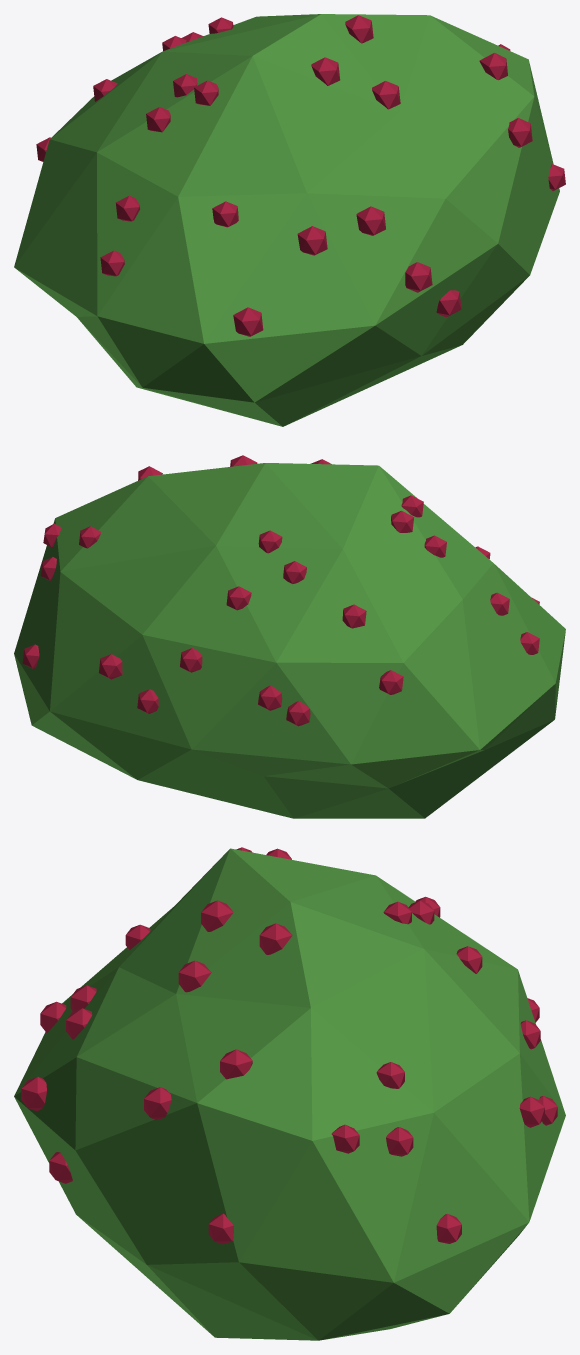
Rendered from bush_berries_red.fbx.
The picture shows the model from 3 angles, top to bottom: view 1: azimuth 30°, elevation 25°; view 2: azimuth 150°, elevation 25°; view 3: azimuth 270°, elevation 25°; orthographic projection. The views are drawn at different scales.
Parts seen in each view (by area): view 1: bush_berries_red_LOD0; view 2: bush_berries_red_LOD0; view 3: bush_berries_red_LOD0.
Boxes of the visible parts, <box> form: bush_berries_red_LOD0: <box>14,14,565,426</box>; bush_berries_red_LOD0: <box>14,455,565,818</box>; bush_berries_red_LOD0: <box>14,847,565,1340</box>.
Size of what is drawn, in the model's own units: 219 by 142 by 187.
